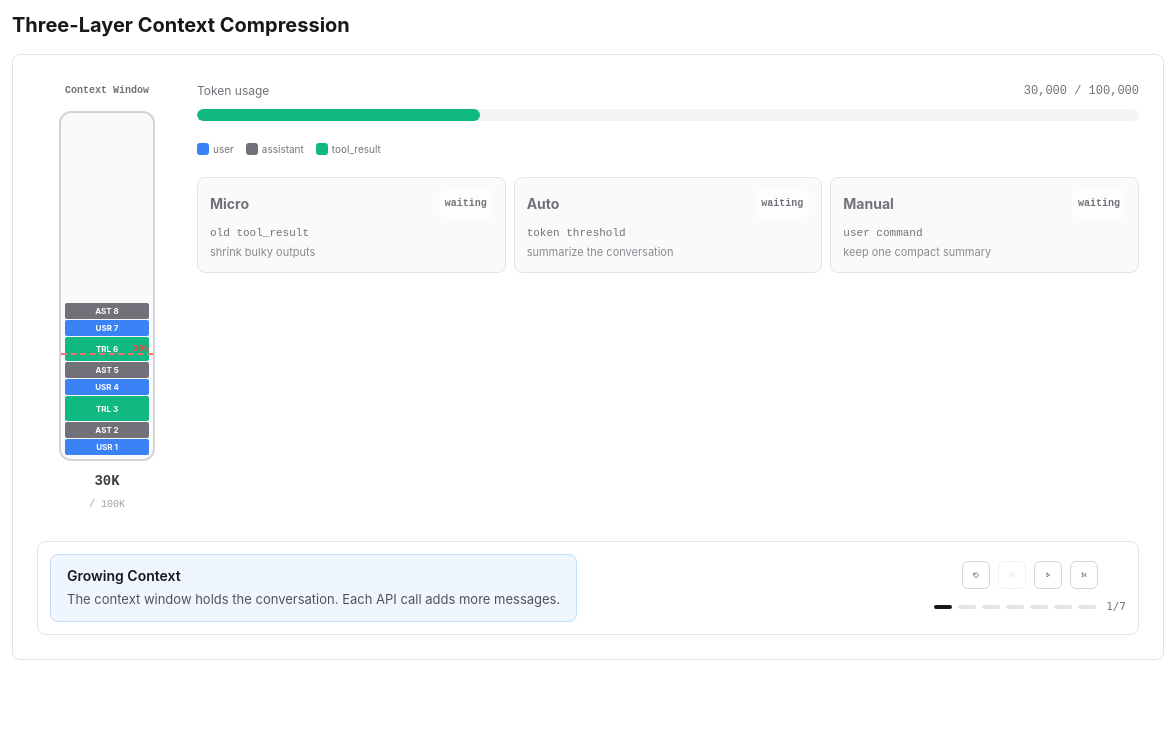
it: S08ContextCompact › renders context compression stages and advances through the compacting flow
Click the button titled "Next step" at coordinates (1084, 575), box [1070,561,1098,589]
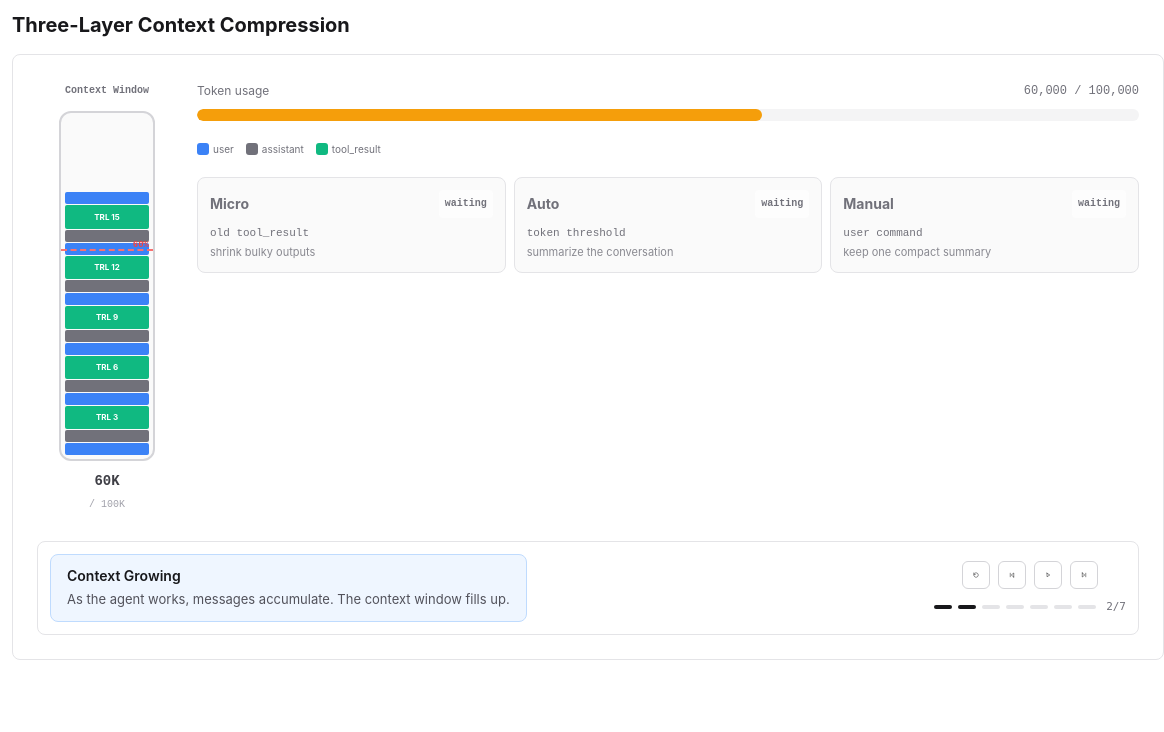
Expected: the text "60,000 / 100,000" is shown, [1024,84,1139,98]
Expected: the text "Context Growing" is shown, [67,567,181,584]
Click the button titled "Next step" at coordinates (1084, 575), box [1070,561,1098,589]
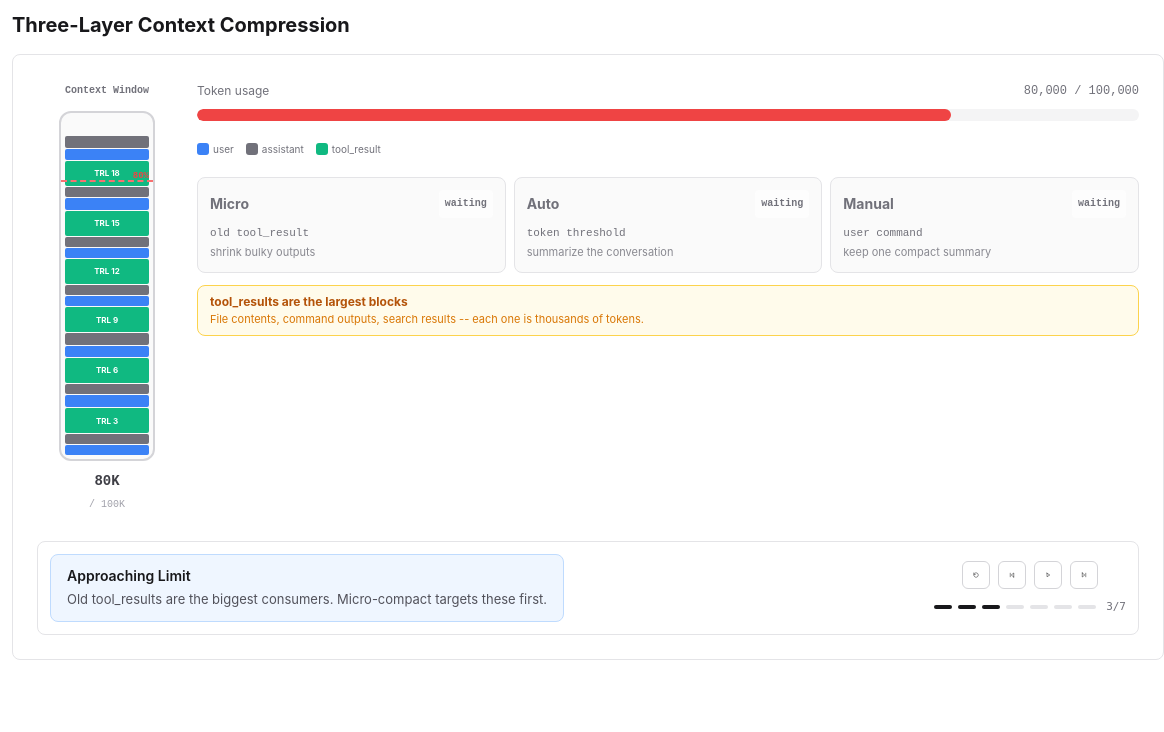
Expected: the text "80,000 / 100,000" is shown, [1024,84,1139,98]
Expected: the text "tool_results are the largest blocks" is shown, [210,294,408,309]
Expected: the text "Approaching Limit" is shown, [67,567,191,584]
Click the button titled "Next step" at coordinates (1084, 575), box [1070,561,1098,589]
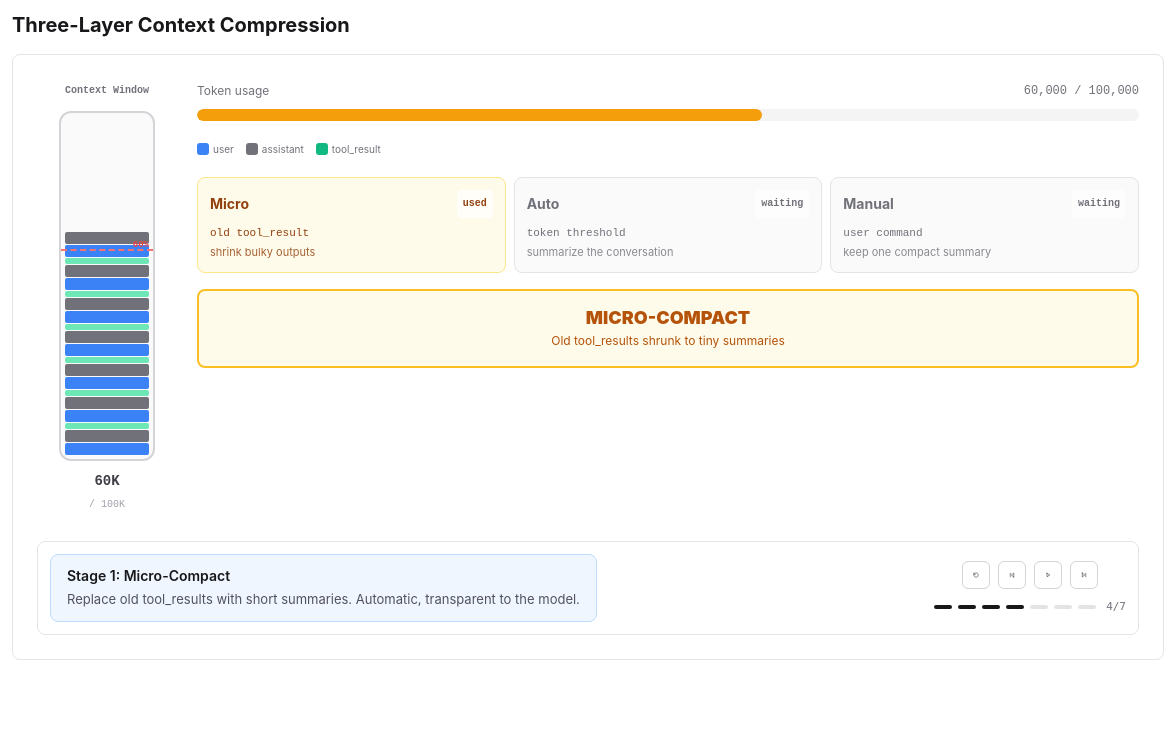
Expected: the text "MICRO-COMPACT" is shown, [586,307,750,328]
Expected: the text "Old tool_results shrunk to tiny summaries" is shown, [551,333,785,348]
Click the button titled "Next step" at coordinates (1084, 575), box [1070,561,1098,589]
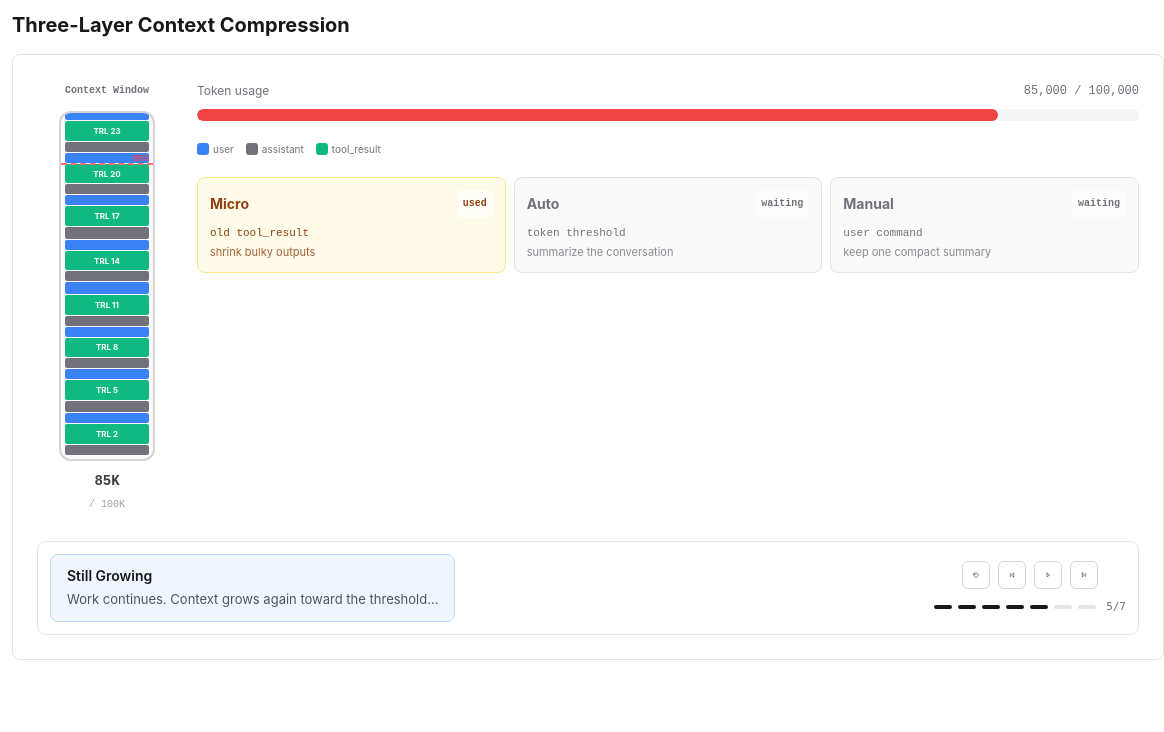
Expected: the text "85,000 / 100,000" is shown, [1024,84,1139,98]
Expected: the text "Still Growing" is shown, [67,567,152,584]
Click the button titled "Next step" at coordinates (1084, 575), box [1070,561,1098,589]
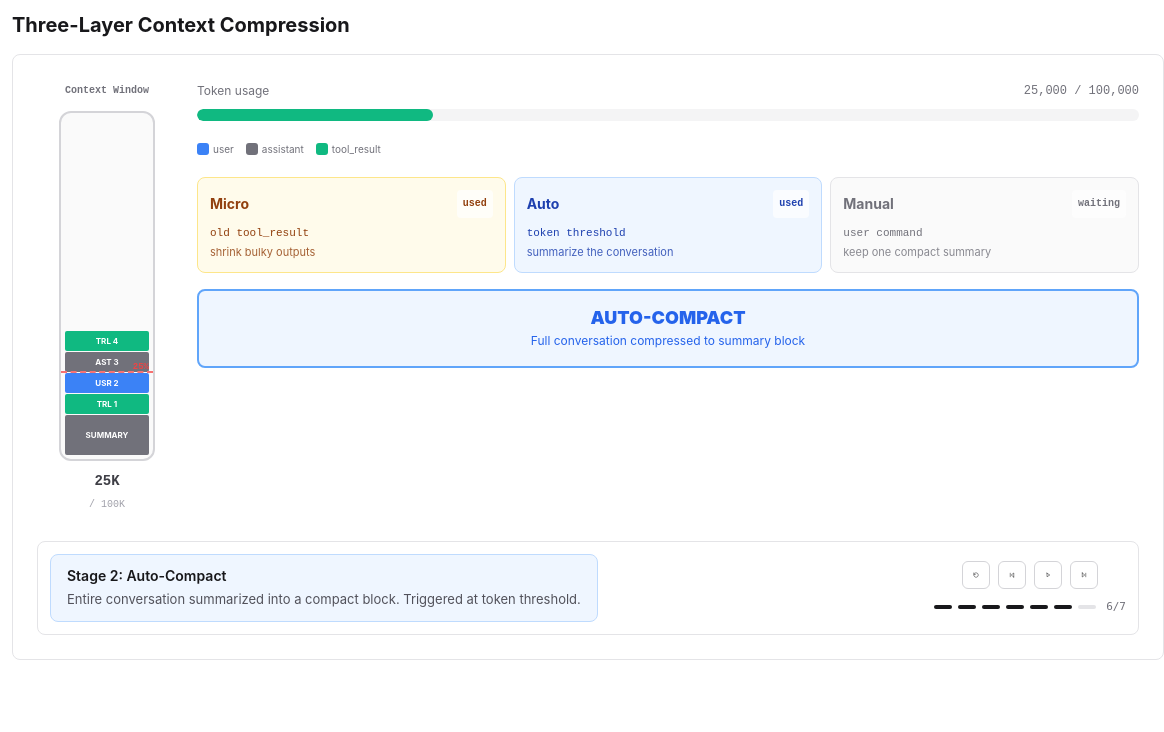
Expected: the text "SUMMARY" is shown, [86,430,128,440]
Expected: the text "AUTO-COMPACT" is shown, [590,307,746,328]
Expected: the text "Full conversation compressed to summary block" is shown, [531,333,805,348]
Click the button titled "Next step" at coordinates (1084, 575), box [1070,561,1098,589]
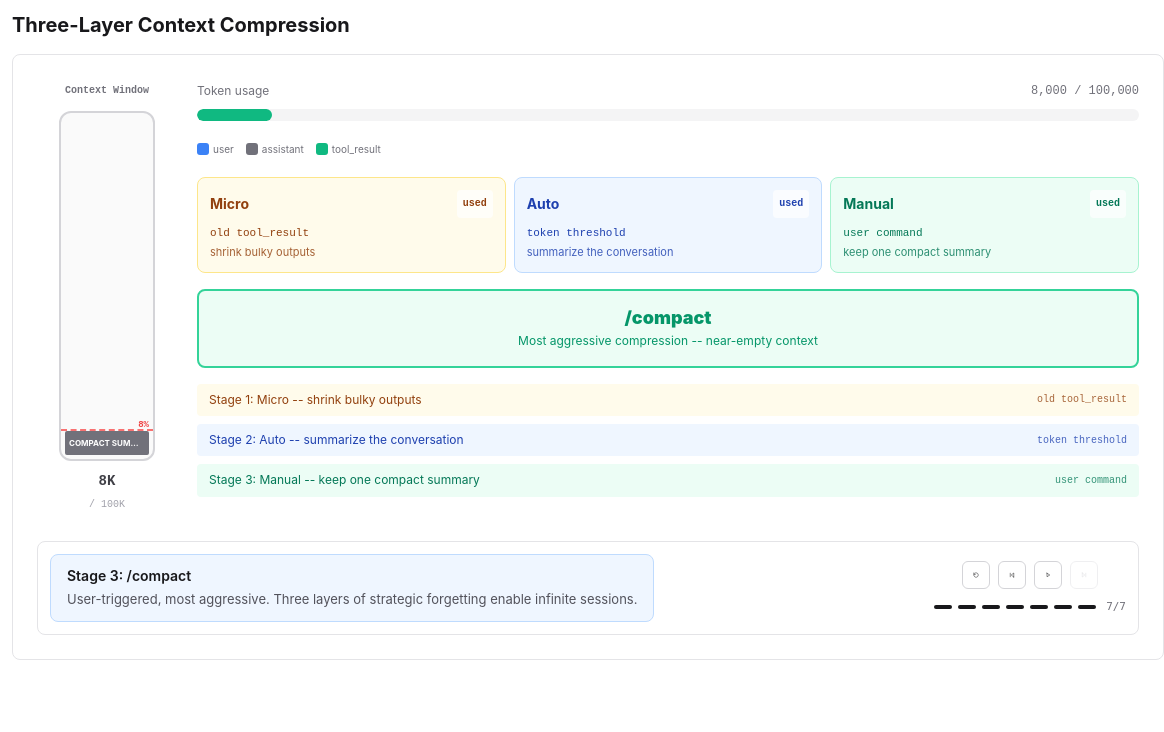
Expected: the text "/compact" is shown, [624,307,712,328]
Expected: the text "Stage 1: Micro -- shrink bulky outputs" is shown, [209,392,422,408]
Expected: the text "Stage 2: Auto -- summarize the conversation" is shown, [209,432,464,448]
